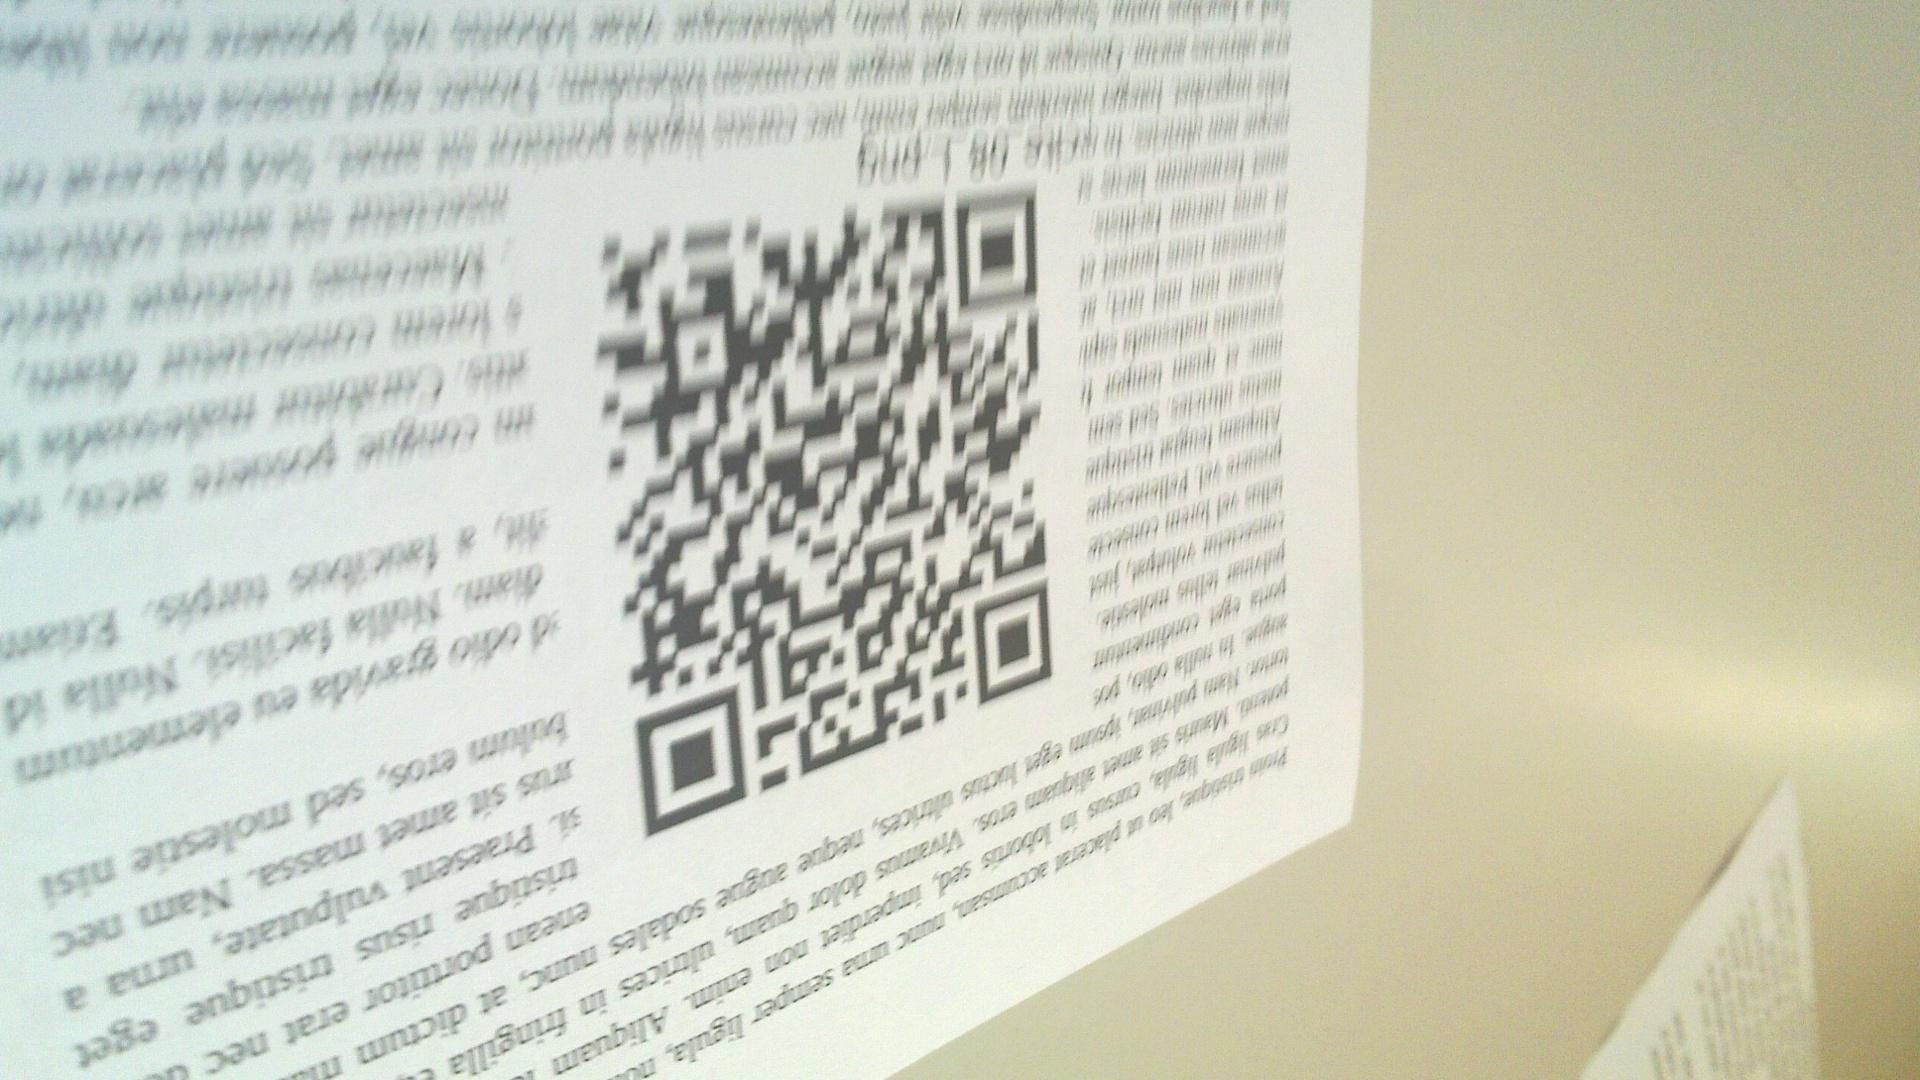Finder pattern: (630, 691, 749, 825), (952, 181, 1043, 311), (969, 582, 1056, 702)
